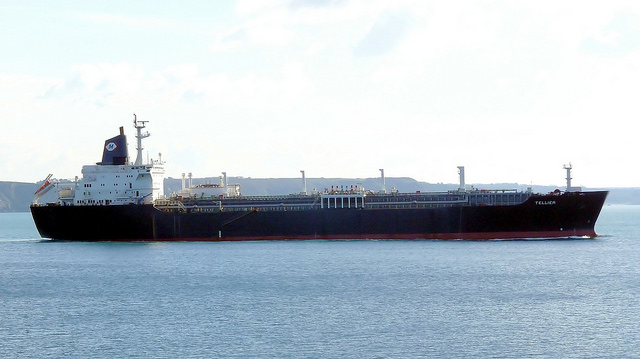LNG_ship: (29, 115, 608, 243)
